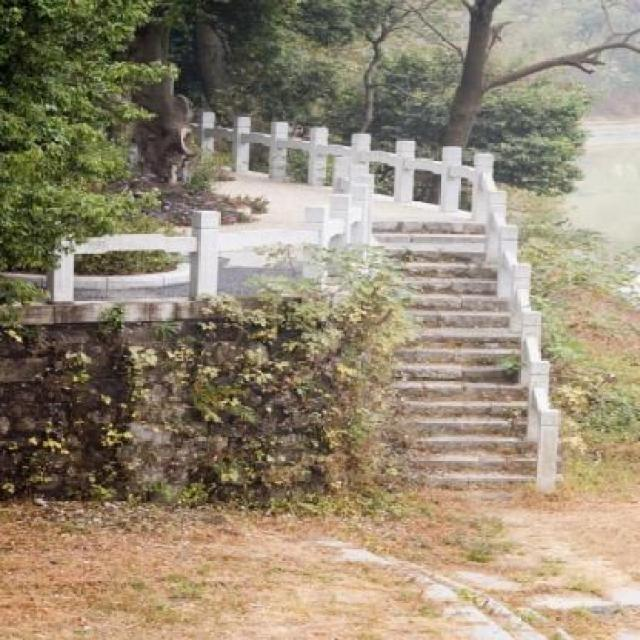stair: (364, 222, 552, 489)
